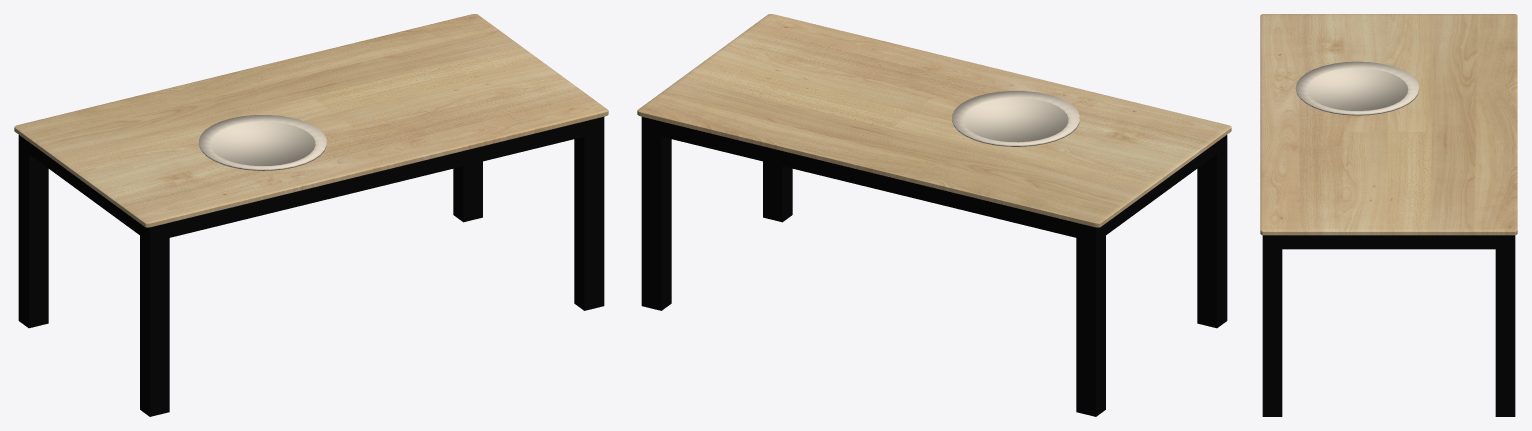
Rendered from Table.fbx.
The picture shows the model from 3 angles, left to right: view 1: azimuth 30°, elevation 25°; view 2: azimuth 150°, elevation 25°; view 3: azimuth 270°, elevation 25°; orthographic projection. The views are drawn at different scales.
Visible parts, largest first — view 1: Plane.006, Plane, Circle.001; view 2: Plane.006, Plane, Circle.001; view 3: Plane.006, Plane, Circle.001.
Part boxes in pixels (x1,y1,x2,y2): Plane.006: (14, 14, 608, 227); Plane: (18, 117, 604, 416); Circle.001: (199, 115, 326, 170); Plane.006: (637, 14, 1231, 227); Plane: (641, 117, 1227, 416); Circle.001: (952, 91, 1079, 146); Plane.006: (1260, 14, 1517, 235); Plane: (1262, 235, 1515, 416); Circle.001: (1295, 61, 1419, 115).
Size of the model in its own units: 1425 by 586 by 712.
3 materials, 1 textured.
